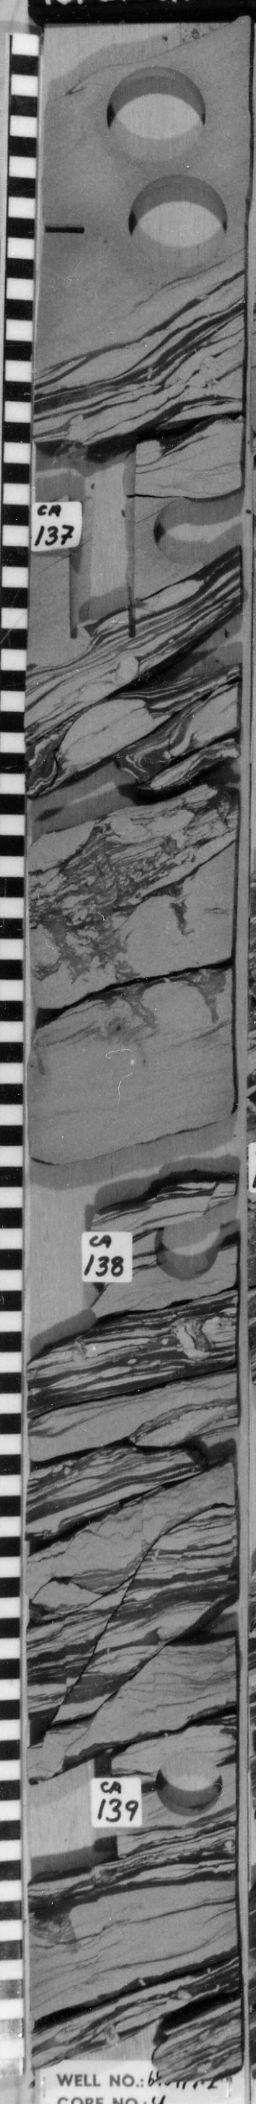hplug: (150, 1746, 227, 1820), (150, 1210, 224, 1285), (150, 490, 202, 572)
scal: (121, 176, 233, 278), (101, 63, 212, 165)
vplug: (62, 435, 143, 645), (59, 1740, 126, 1883), (50, 1212, 115, 1349)
